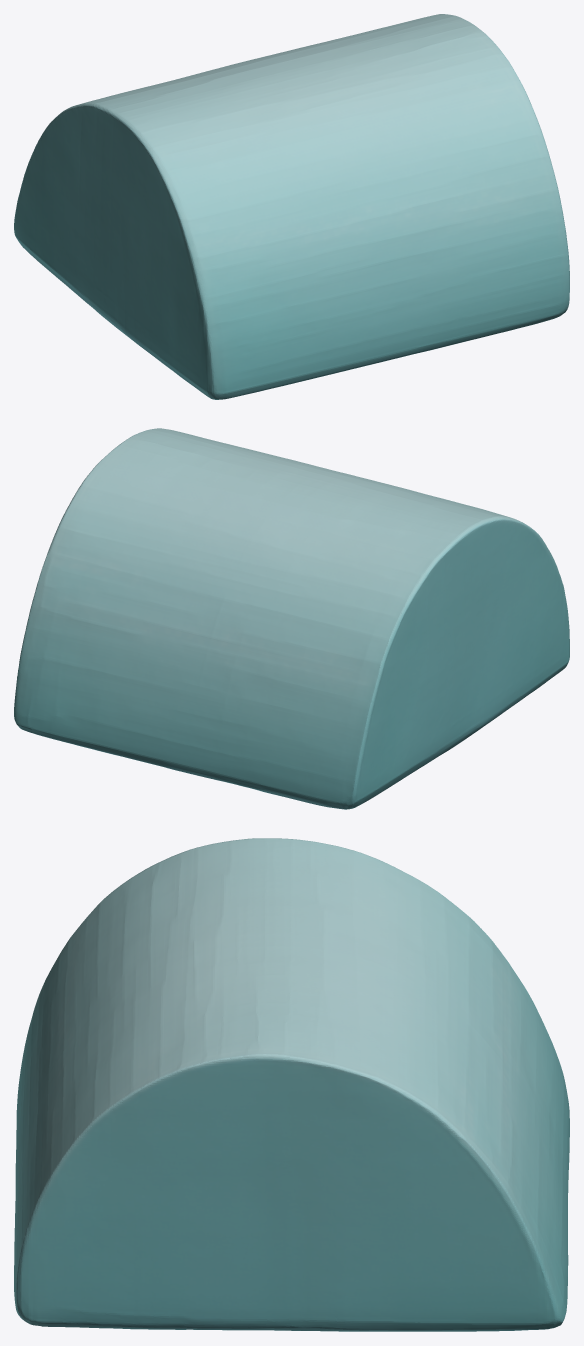
The model's file is obj3_scaled.glb.
The picture shows the model from 3 angles, top to bottom: view 1: azimuth 30°, elevation 25°; view 2: azimuth 150°, elevation 25°; view 3: azimuth 270°, elevation 25°; orthographic projection. The views are drawn at different scales.
Visible parts, largest first — view 1: world; view 2: world; view 3: world.
Boxes of the visible parts, x1,y1,x2,y2 form: world: [14, 14, 569, 399]; world: [14, 428, 569, 809]; world: [14, 838, 569, 1331].
Bounding box in the file's own units: 0.031 × 0.0178 × 0.0312.
